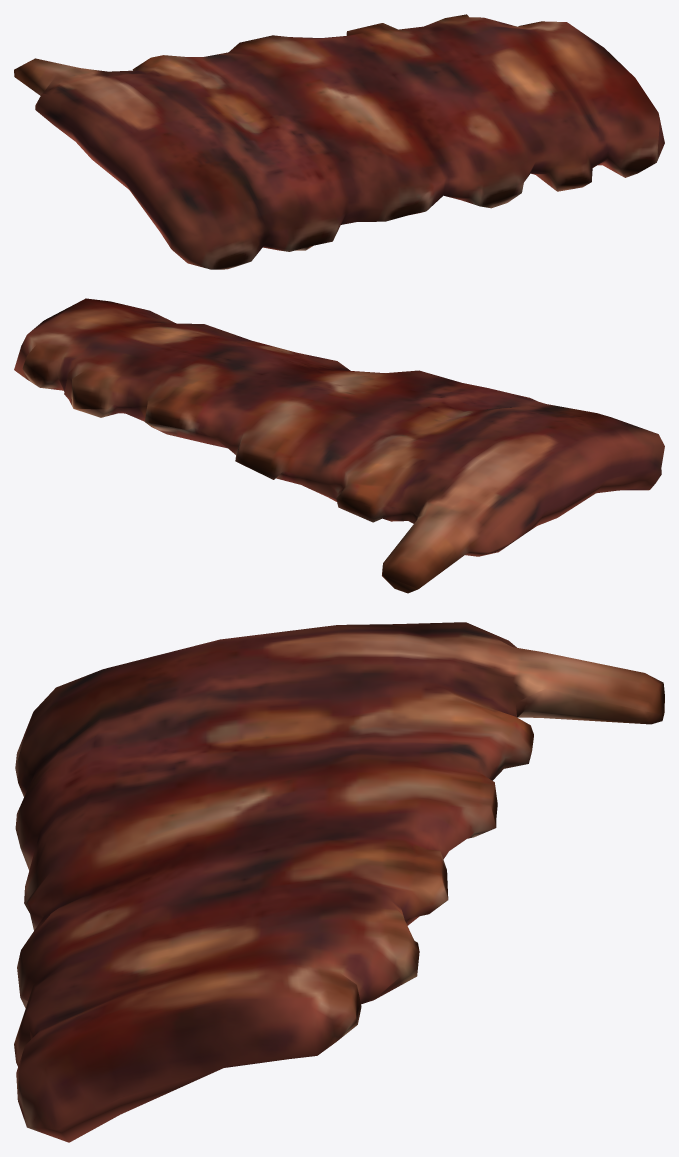
Rendered from ref_ribsbig.glb.
The picture shows the model from 3 angles, top to bottom: view 1: azimuth 30°, elevation 25°; view 2: azimuth 150°, elevation 25°; view 3: azimuth 270°, elevation 25°; orthographic projection. The views are drawn at different scales.
Visible parts, largest first — view 1: ref_ribsbig_part0; view 2: ref_ribsbig_part0; view 3: ref_ribsbig_part0.
Boxes of the visible parts, x1,y1,x2,y2 form: ref_ribsbig_part0: (14,14,664,269); ref_ribsbig_part0: (14,298,664,593); ref_ribsbig_part0: (14,622,664,1142).
Size of the model in its own units: 1 by 0.1988 by 0.7089.
Materials: 1 (1 with a texture image).
